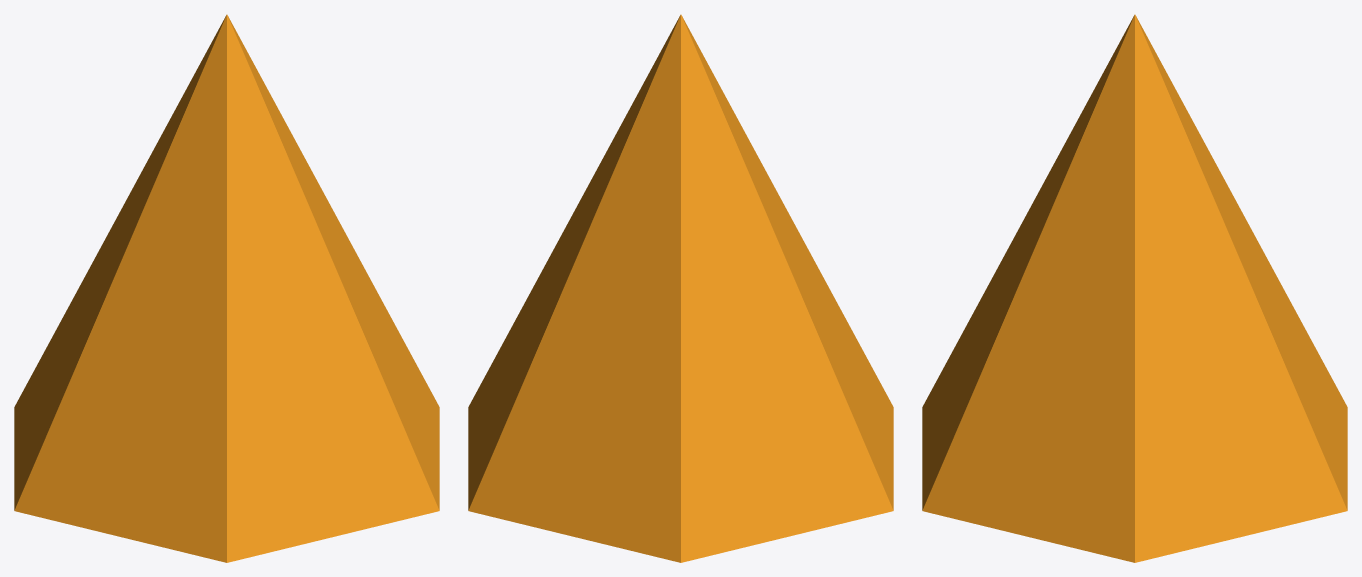
3 renders of one model, left to right at view 1: azimuth 30°, elevation 25°; view 2: azimuth 150°, elevation 25°; view 3: azimuth 270°, elevation 25°, orthographic.
Visible parts, largest first — view 1: SM_Primitive_Cone_01; view 2: SM_Primitive_Cone_01; view 3: SM_Primitive_Cone_01.
Boxes of the visible parts, <box> form: SM_Primitive_Cone_01: <box>14,14,439,562</box>; SM_Primitive_Cone_01: <box>468,14,893,562</box>; SM_Primitive_Cone_01: <box>922,14,1347,562</box>.
Size of the model in its own units: 100 by 100 by 86.6.
